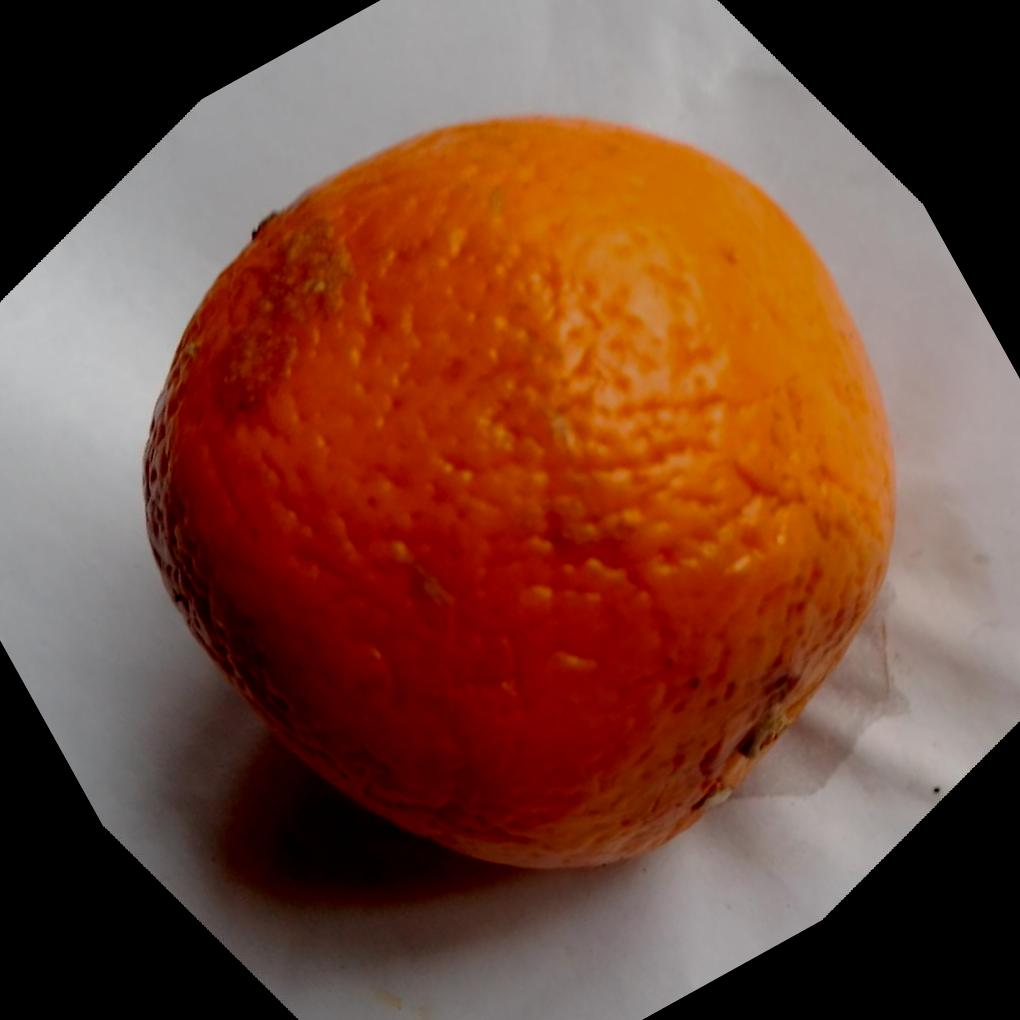FreshOrange: (138, 108, 897, 870)
